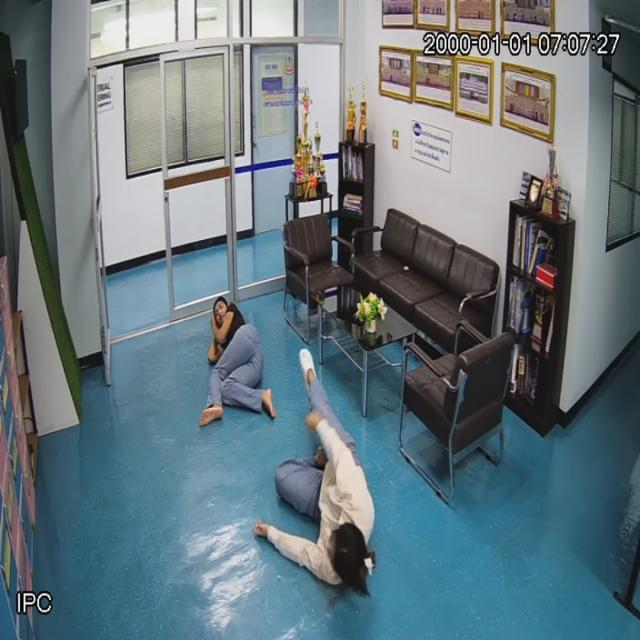fall: (266, 336, 376, 599), (197, 291, 277, 425)
